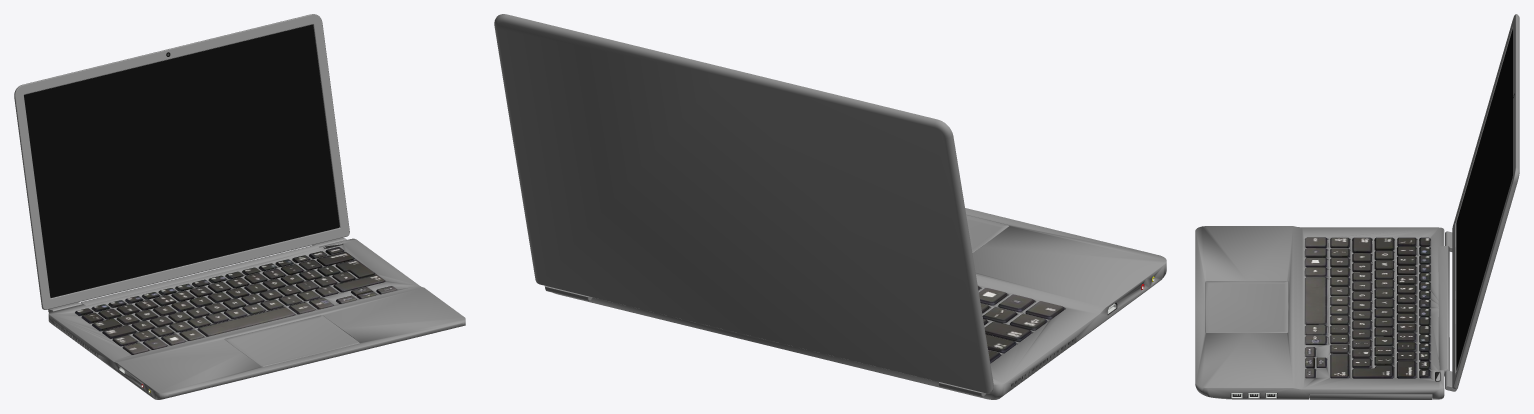
The model's file is laptop.glb.
3 views of the same model, side by side, from view 1: azimuth 30°, elevation 25°; view 2: azimuth 150°, elevation 25°; view 3: azimuth 270°, elevation 25° (orthographic). The views are drawn at different scales.
Parts seen in each view (by area): view 1: Laptop; view 2: Laptop; view 3: Laptop.
Boxes of the visible parts, x1,y1,x2,y2 form: Laptop: (14,14,465,399); Laptop: (494,14,1166,399); Laptop: (1195,14,1519,399).
Size of the model in its own units: 0.5448 by 0.3605 by 0.4612.
Materials: 2 (2 with a texture image).
